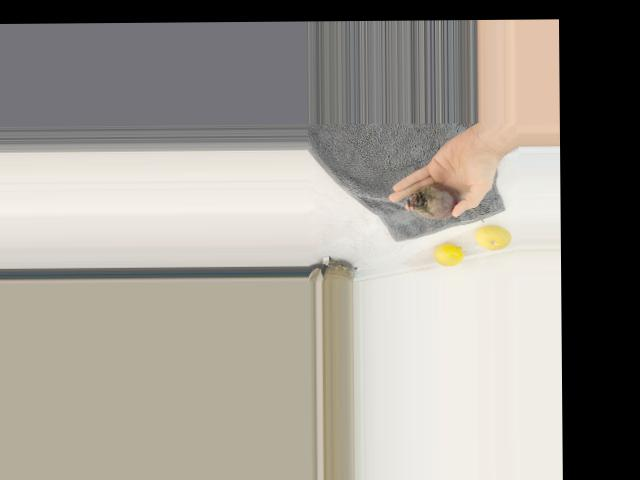beet: (407, 183, 484, 223)
